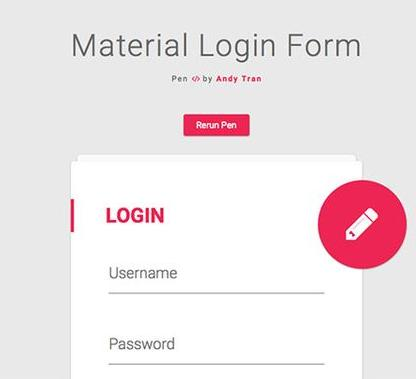button: (182, 111, 254, 140)
field_line: (105, 333, 328, 369), (106, 262, 327, 297)
